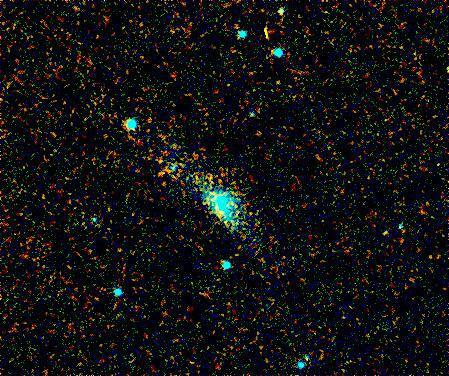star: (235, 200, 265, 230)
